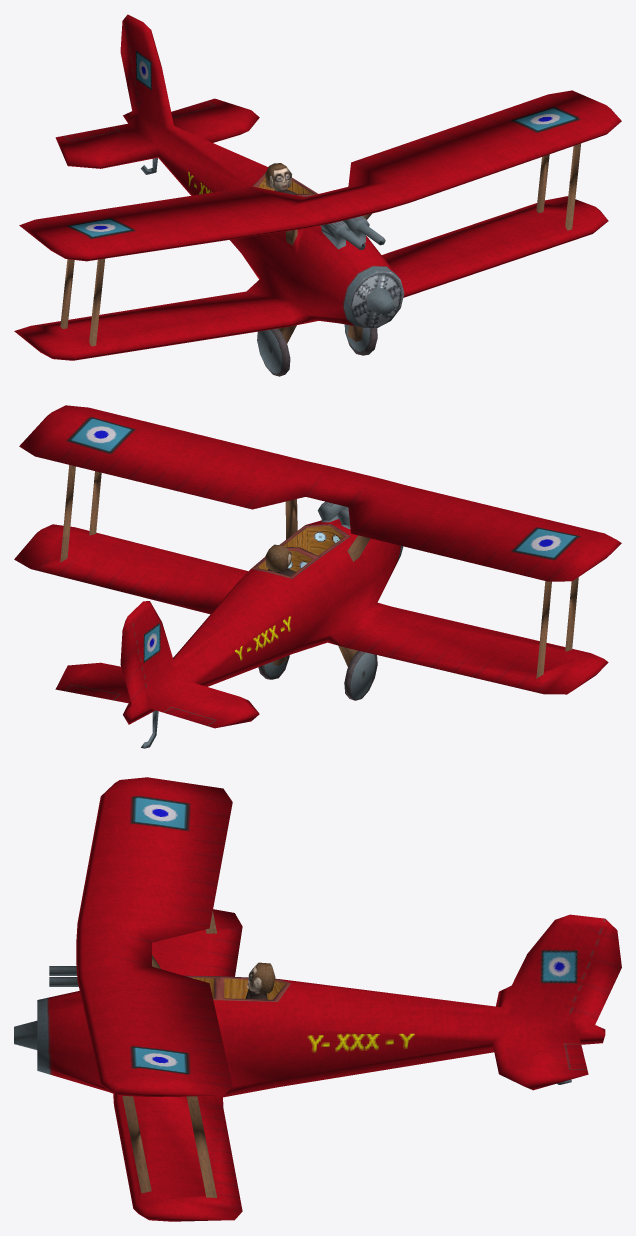
Rendered from airplane_red_mesh.obj.
The picture shows the model from 3 angles, top to bottom: view 1: azimuth 30°, elevation 25°; view 2: azimuth 150°, elevation 25°; view 3: azimuth 270°, elevation 25°; orthographic projection. The views are drawn at different scales.
Parts seen in each view (by area): view 1: Default; view 2: Default; view 3: Default.
Part boxes in pixels (left/top/right/bottom): Default: left=14, top=14, right=621, bottom=376; Default: left=14, top=405, right=621, bottom=748; Default: left=14, top=777, right=621, bottom=1221.
Bounding box in the file's own units: 8 × 2.91 × 6.57.
Materials: 1 (1 with a texture image).
